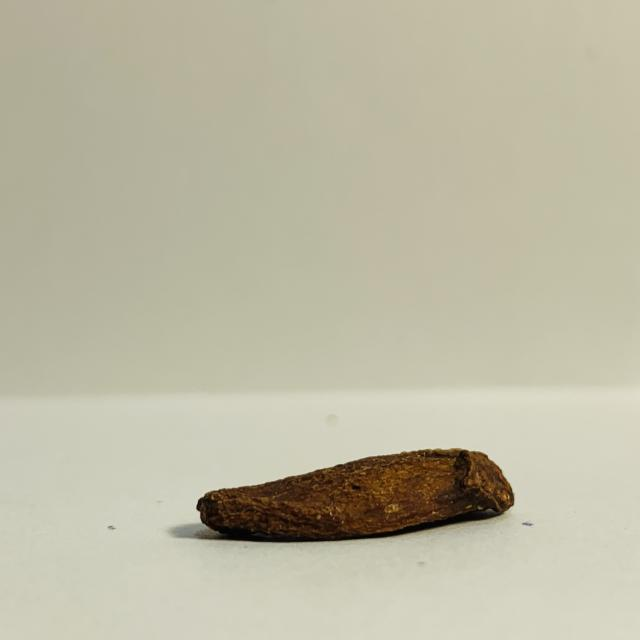Flat_cocoabeans: (143, 417, 566, 591)
